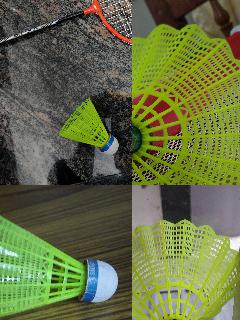shuttlecock: (132, 23, 239, 184), (0, 214, 118, 319), (132, 218, 239, 319), (58, 98, 118, 154)
